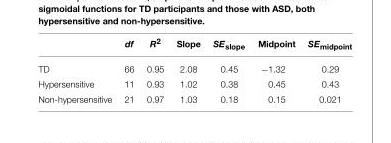table: (37, 36, 351, 103)
table column: (37, 36, 117, 103), (300, 36, 351, 103), (250, 36, 300, 103), (206, 36, 250, 103), (169, 36, 206, 103), (139, 36, 169, 103), (117, 36, 139, 103)
table column header: (37, 36, 351, 57)
table row: (37, 36, 351, 57), (37, 57, 351, 76), (37, 76, 351, 91), (37, 91, 351, 103)
